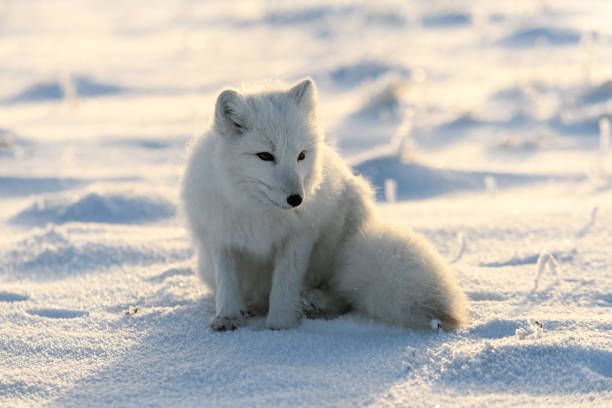arcticfox: (226, 95, 337, 236)
